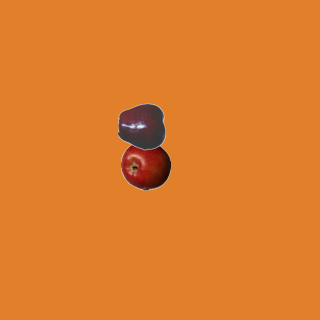Apple Braeburn: (120, 140, 170, 190)
Apple Red Delicious: (117, 101, 167, 151)
